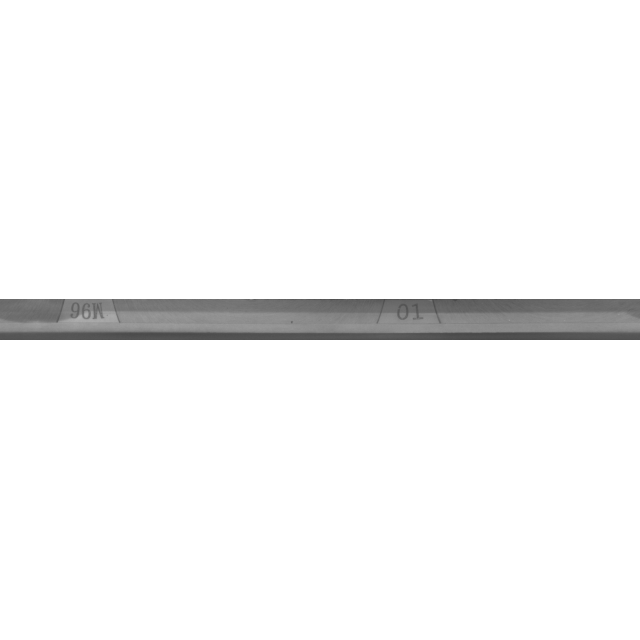mohao: (0, 270, 186, 370)
xuehao: (305, 270, 505, 370)
